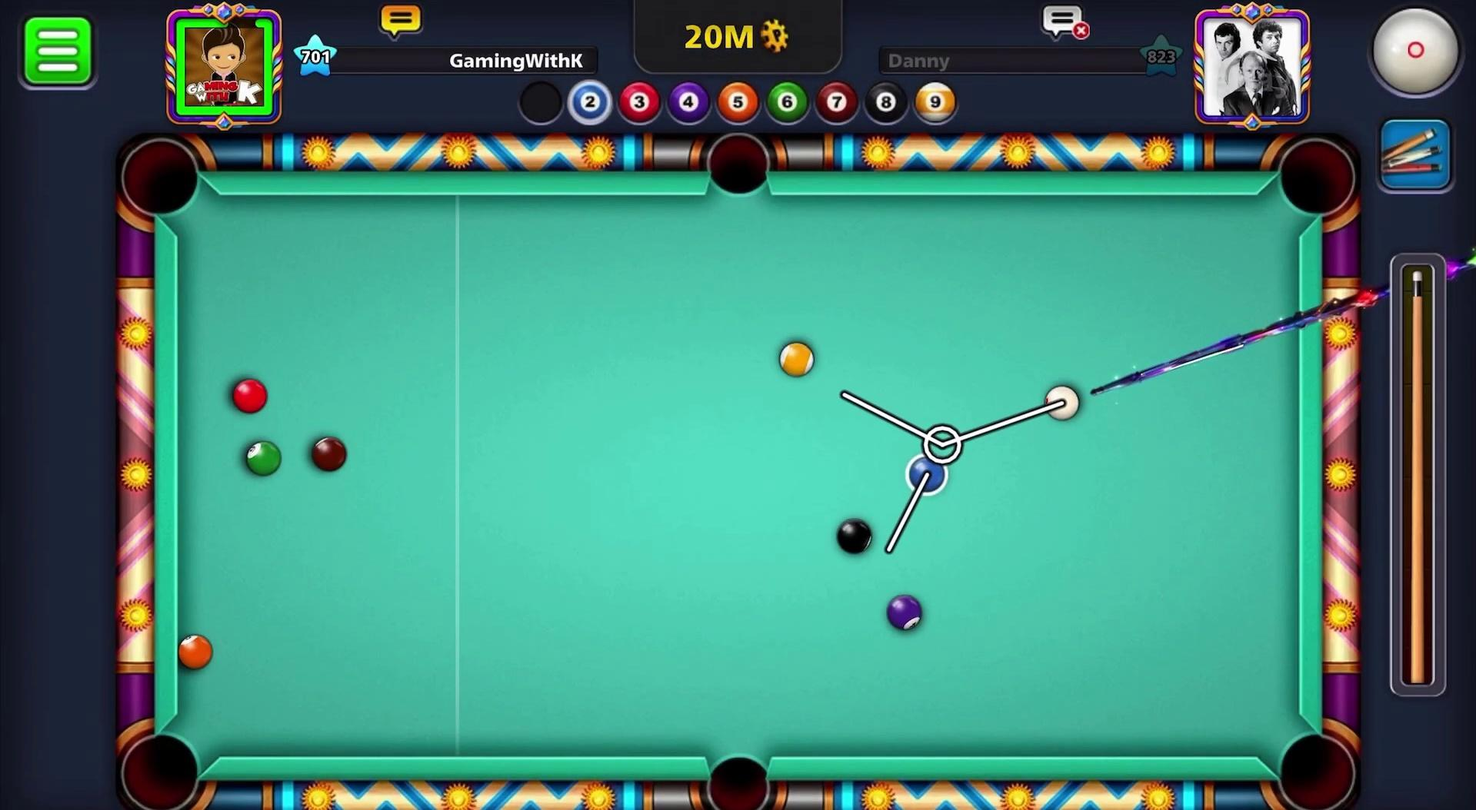Ball: (875, 588, 931, 639), (828, 512, 879, 561), (773, 334, 823, 383), (901, 450, 950, 500), (229, 370, 272, 417), (303, 432, 349, 472), (175, 630, 216, 672), (242, 437, 284, 477)
Force: (1384, 249, 1454, 699)
Guideline: (840, 386, 1079, 553)
Hole: (108, 128, 212, 231), (111, 713, 217, 809), (1267, 129, 1368, 228), (1265, 719, 1364, 809), (697, 123, 782, 206), (688, 736, 784, 809)
Play_Area: (177, 194, 1298, 759)
Spin: (1344, 0, 1474, 112)
White: (1042, 377, 1086, 427)
